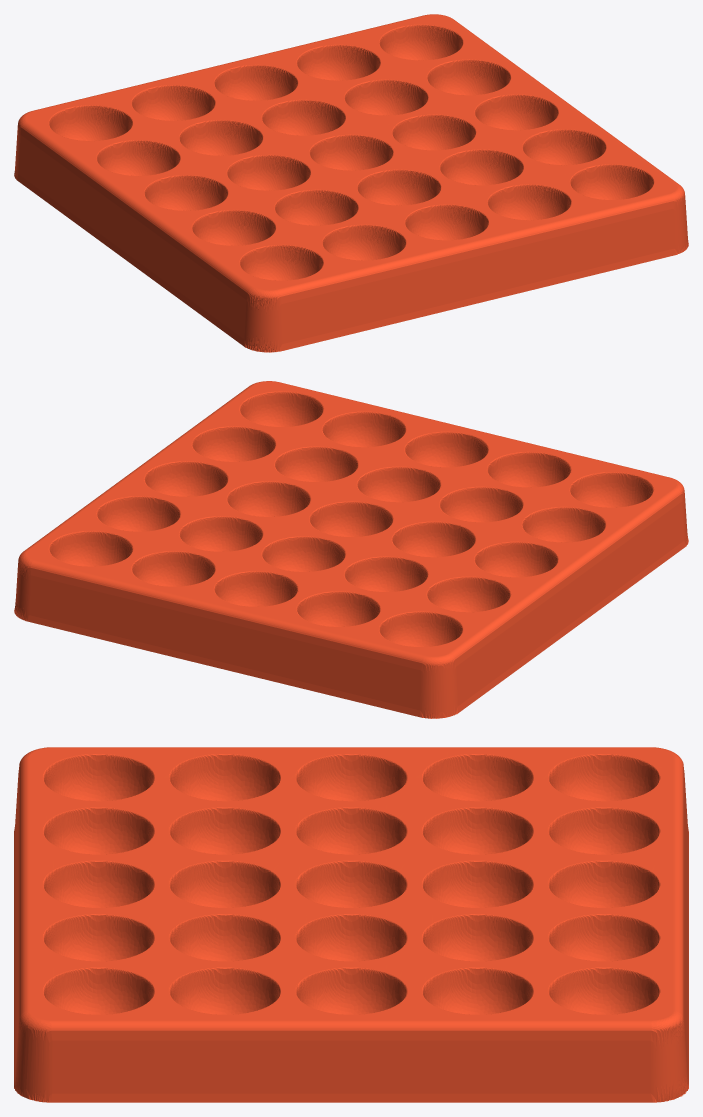
The model's file is mold.glb.
3 renders of one model, top to bottom at view 1: azimuth 30°, elevation 25°; view 2: azimuth 150°, elevation 25°; view 3: azimuth 270°, elevation 25°, orthographic. The views are drawn at different scales.
Parts seen in each view (by area): view 1: geometry_0; view 2: geometry_0; view 3: geometry_0.
Part boxes in pixels (<box>): geometry_0: <box>14,14,688,352</box>; geometry_0: <box>14,381,688,718</box>; geometry_0: <box>14,747,688,1102</box>.
Bounding box in the file's own units: 0.1584 × 0.0196 × 0.1584.
